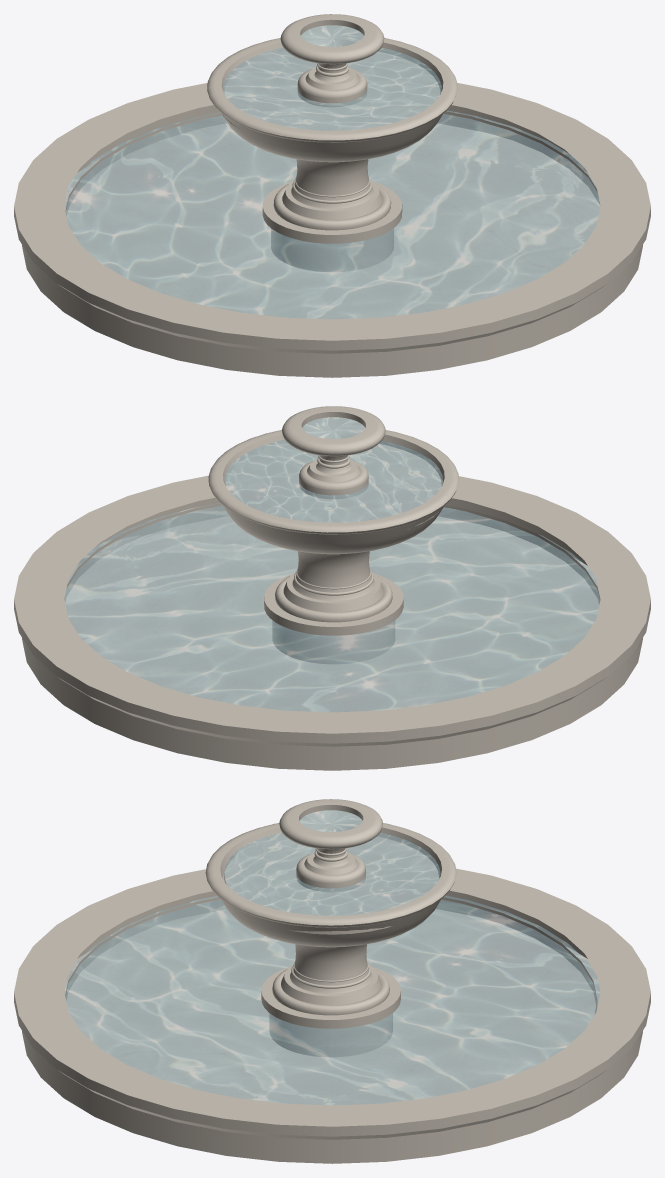
File: Fountain.fbx
3 renders of one model, top to bottom at view 1: azimuth 30°, elevation 25°; view 2: azimuth 150°, elevation 25°; view 3: azimuth 270°, elevation 25°, orthographic.
Visible parts, largest first — view 1: Fountain; view 2: Fountain; view 3: Fountain.
Part boxes in pixels (<box>): Fountain: <box>14,14,650,377</box>; Fountain: <box>14,406,650,770</box>; Fountain: <box>14,799,650,1163</box>.
Size of the model in its own units: 5110 by 1893 by 5110.
2 materials, 1 textured.
